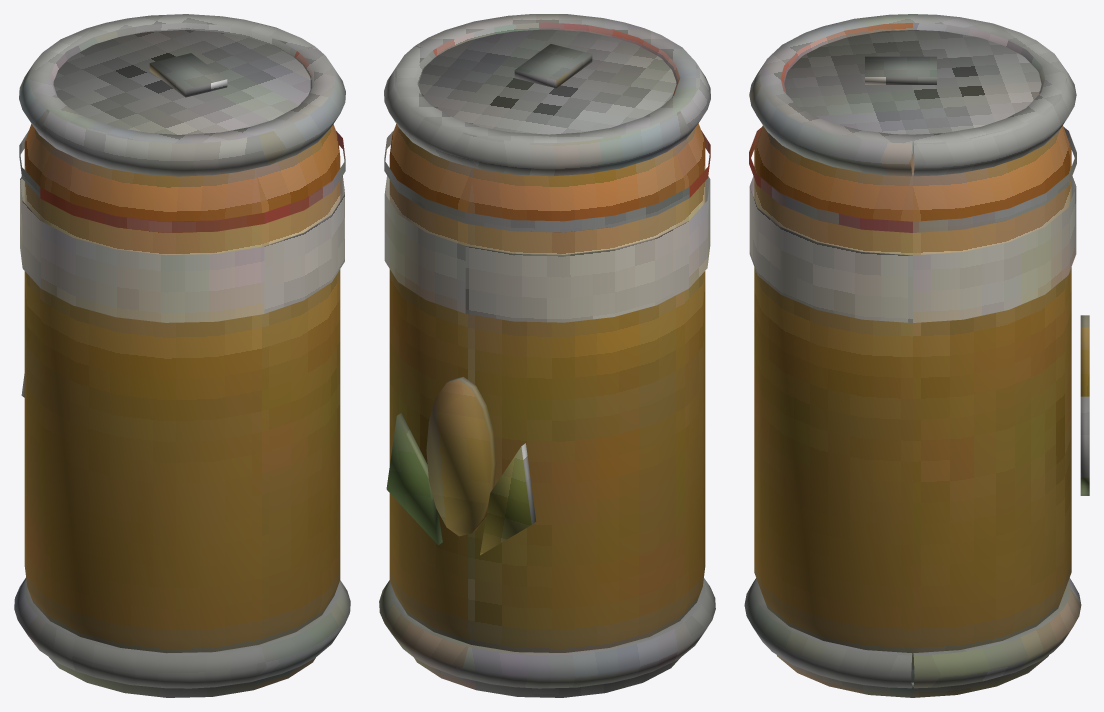
The model's file is can_cornsoup.glb.
The picture shows the model from 3 angles, left to right: view 1: azimuth 30°, elevation 25°; view 2: azimuth 150°, elevation 25°; view 3: azimuth 270°, elevation 25°; orthographic projection.
Visible parts, largest first — view 1: prop_can_cornsoup_felt; view 2: prop_can_cornsoup_felt; view 3: prop_can_cornsoup_felt.
Part boxes in pixels (x1,y1,x2,y2): prop_can_cornsoup_felt: (14, 14, 350, 697); prop_can_cornsoup_felt: (379, 14, 715, 697); prop_can_cornsoup_felt: (744, 14, 1089, 697).
Bounding box in the file's own units: 0.0844 × 0.1579 × 0.0865.
Materials: 1 (1 with a texture image).
